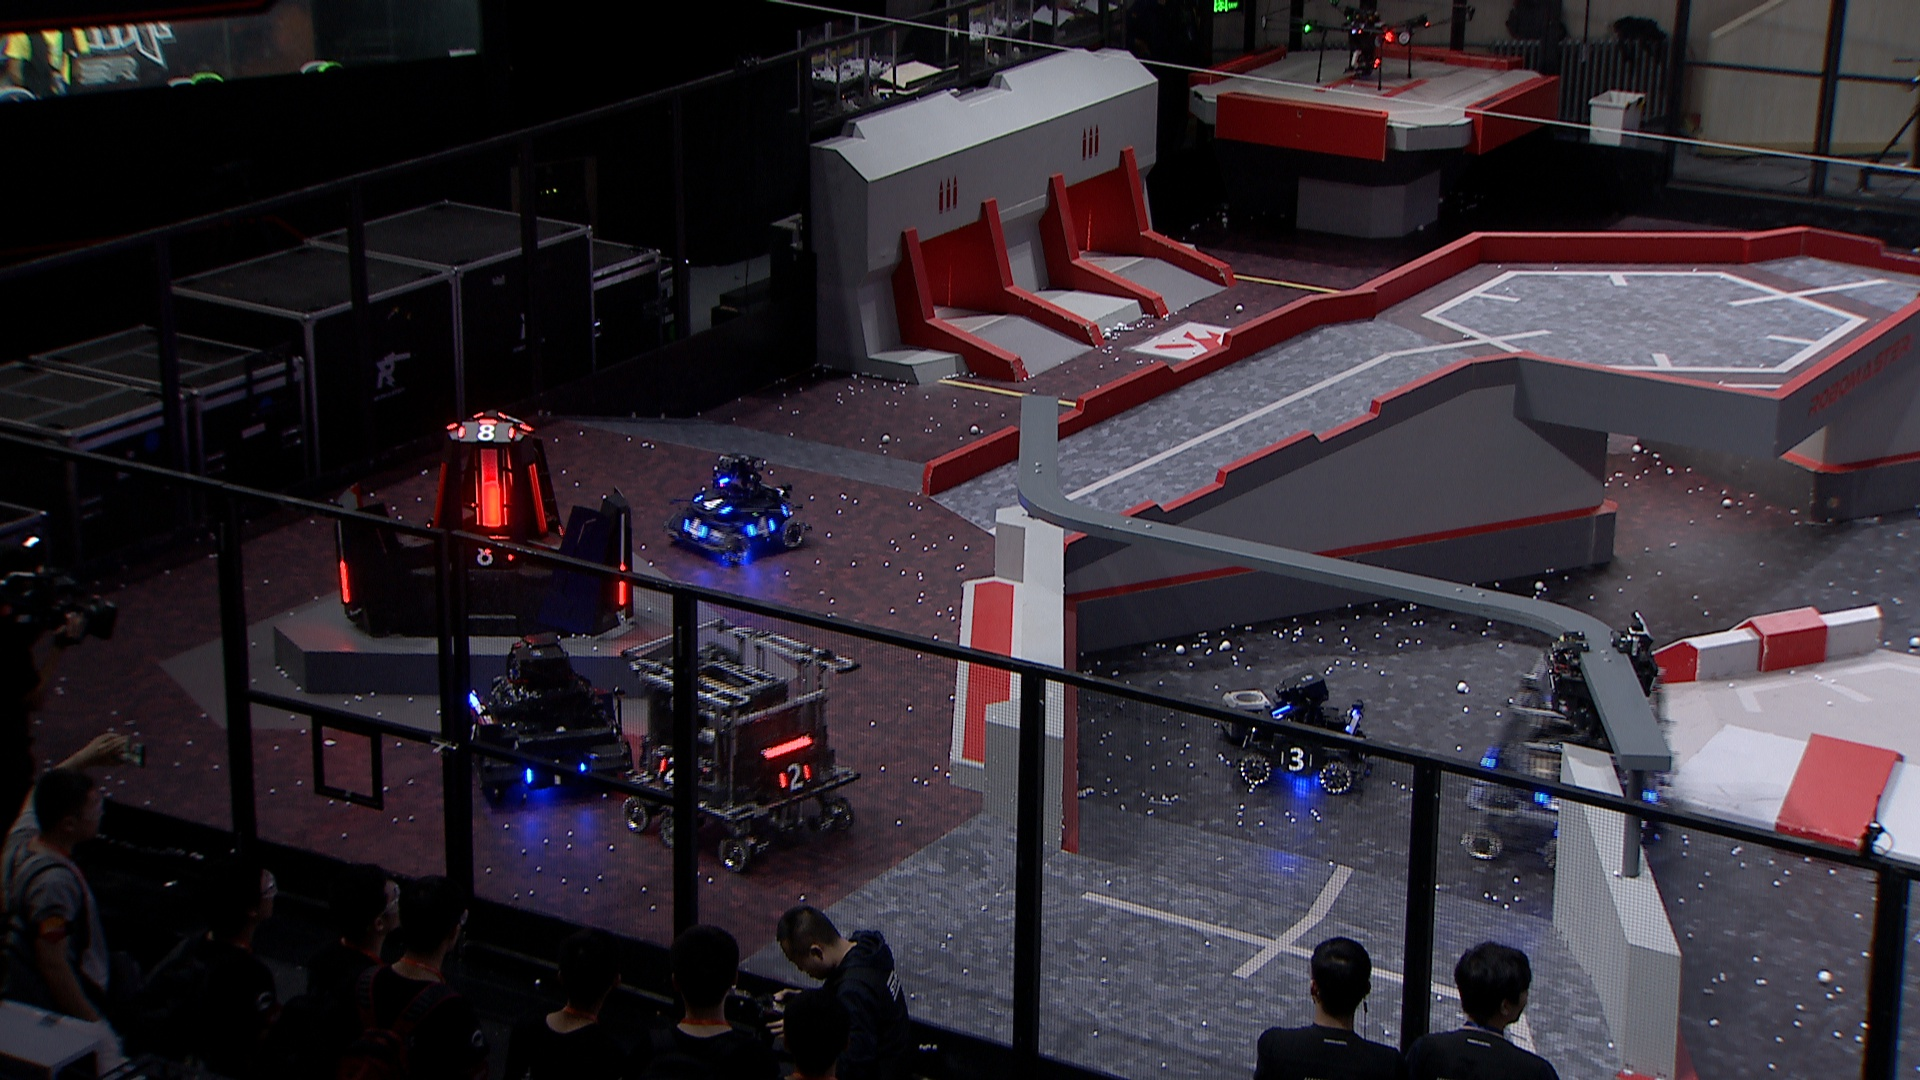armor: (473, 450, 509, 529), (520, 462, 555, 534), (425, 458, 455, 527), (526, 756, 589, 789), (456, 537, 518, 570), (454, 418, 518, 442), (771, 760, 816, 793), (688, 488, 733, 518), (1276, 744, 1319, 773), (744, 513, 783, 541), (655, 756, 684, 785), (678, 517, 712, 541), (338, 556, 353, 607), (613, 564, 632, 604), (462, 721, 485, 752)
base: (328, 404, 633, 637)
car: (615, 617, 856, 872), (1460, 644, 1658, 872), (462, 629, 624, 807), (1232, 670, 1373, 793), (661, 452, 806, 567)
watcher: (1547, 615, 1659, 742)
